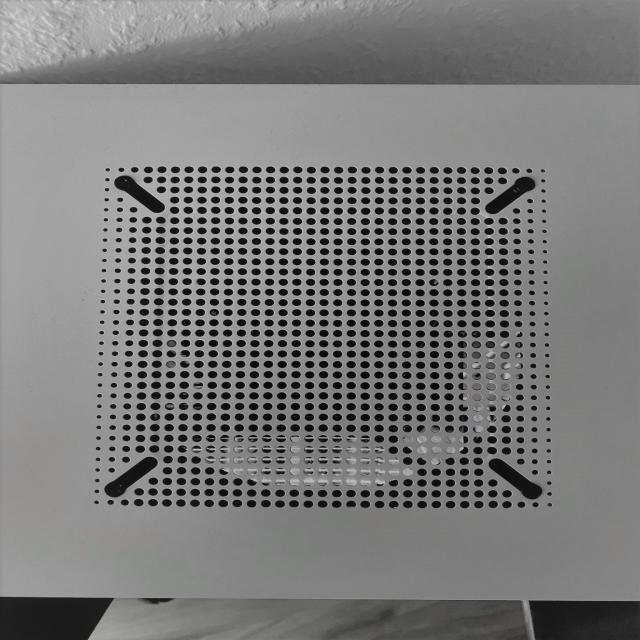PhillipsScrewHead: (102, 482, 126, 497), (114, 174, 134, 190), (516, 176, 536, 192)
